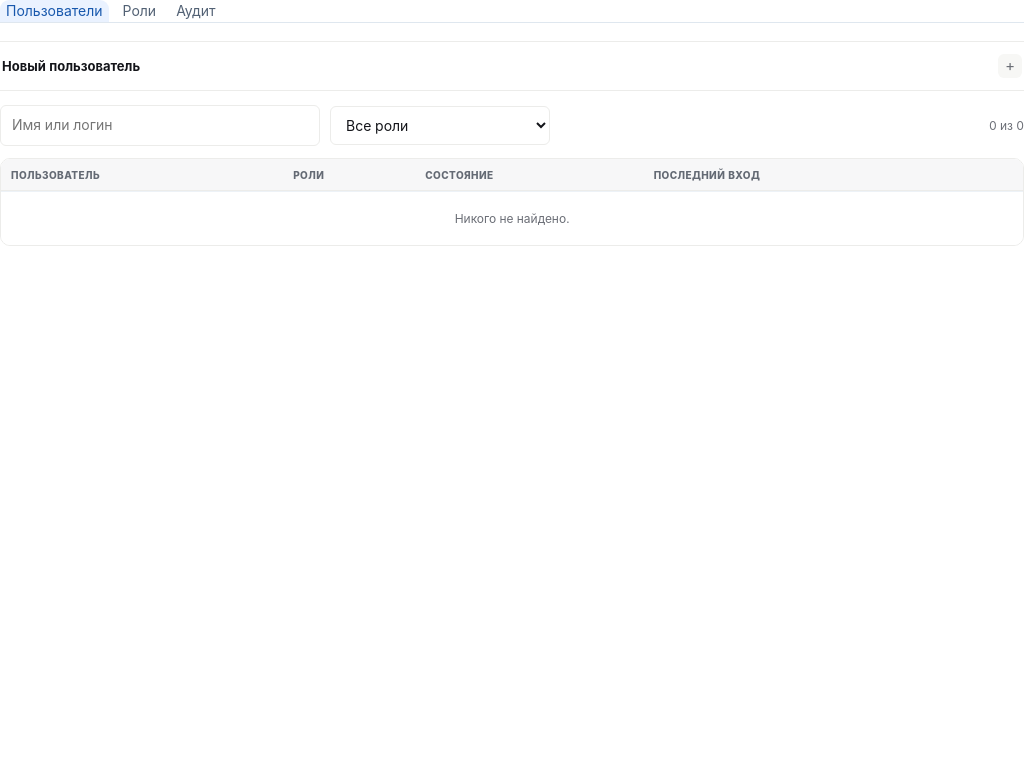
Test: role editing and cloning › requires the role name for deletion and closes the dialog after the request
Click the button "Роли": coordinates (139, 11) [116, 0, 162, 22]
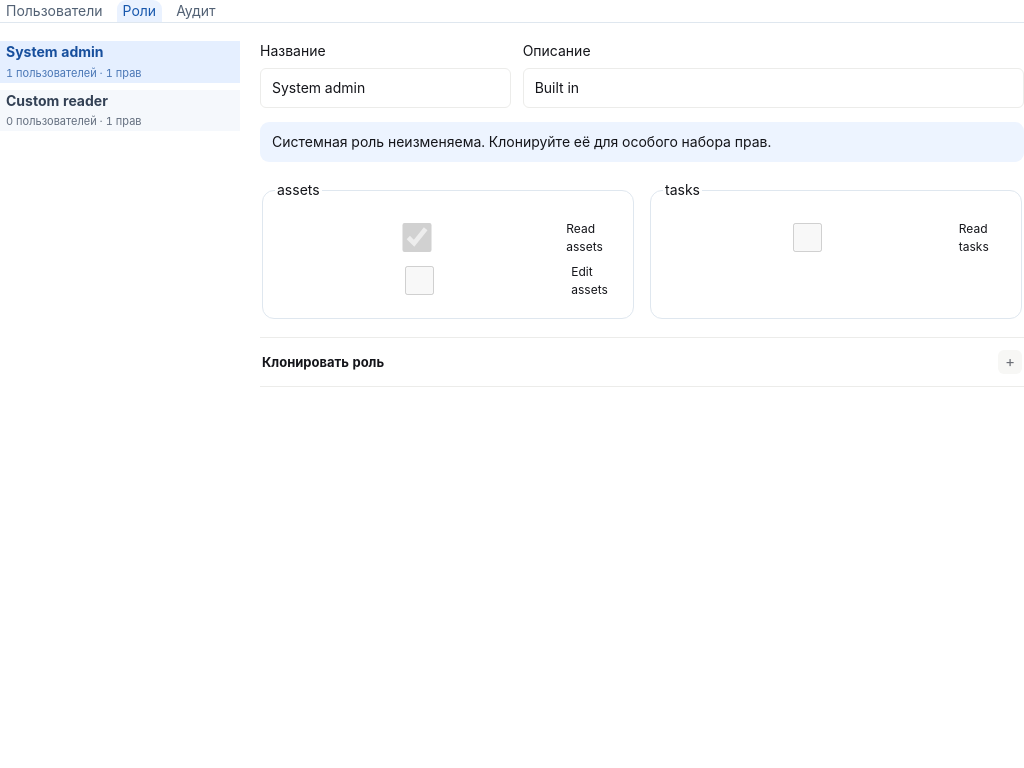
Check: the field showing "System admin" is shown, box [260, 68, 511, 108]
Click the button "Custom reader 0 пользователей · 1 прав": coordinates (120, 110) [0, 90, 240, 131]
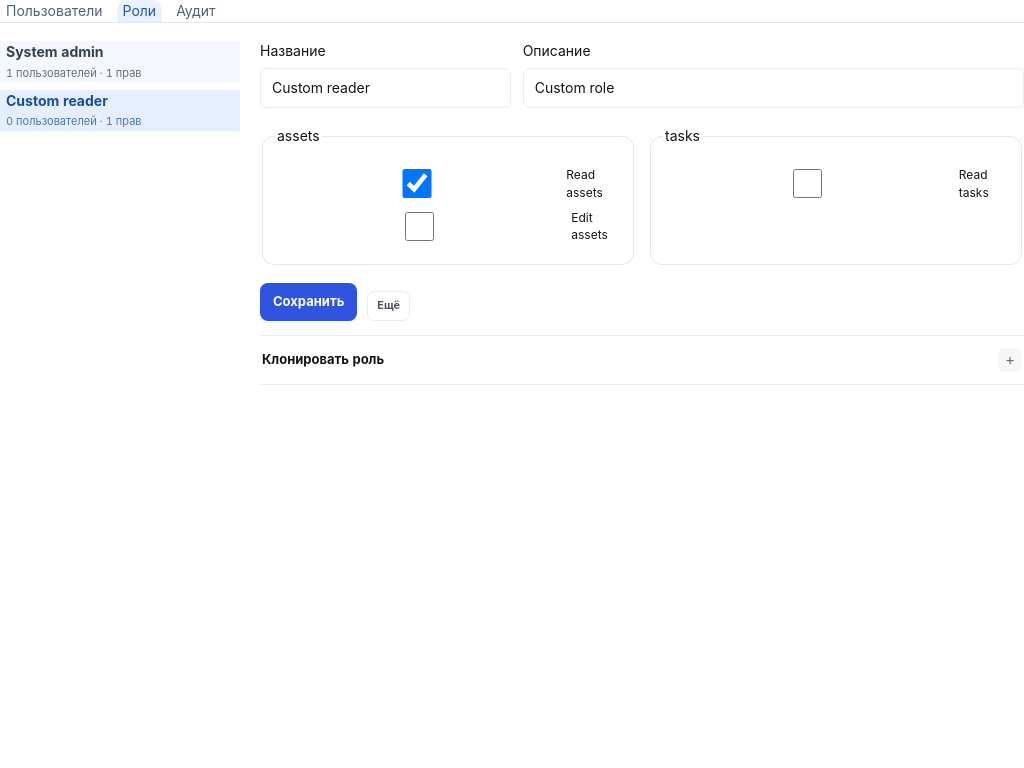
Check: the field showing "Custom reader" is shown, box [260, 68, 511, 108]
Click the heading "Ещё": coordinates (389, 306) [367, 291, 410, 321]
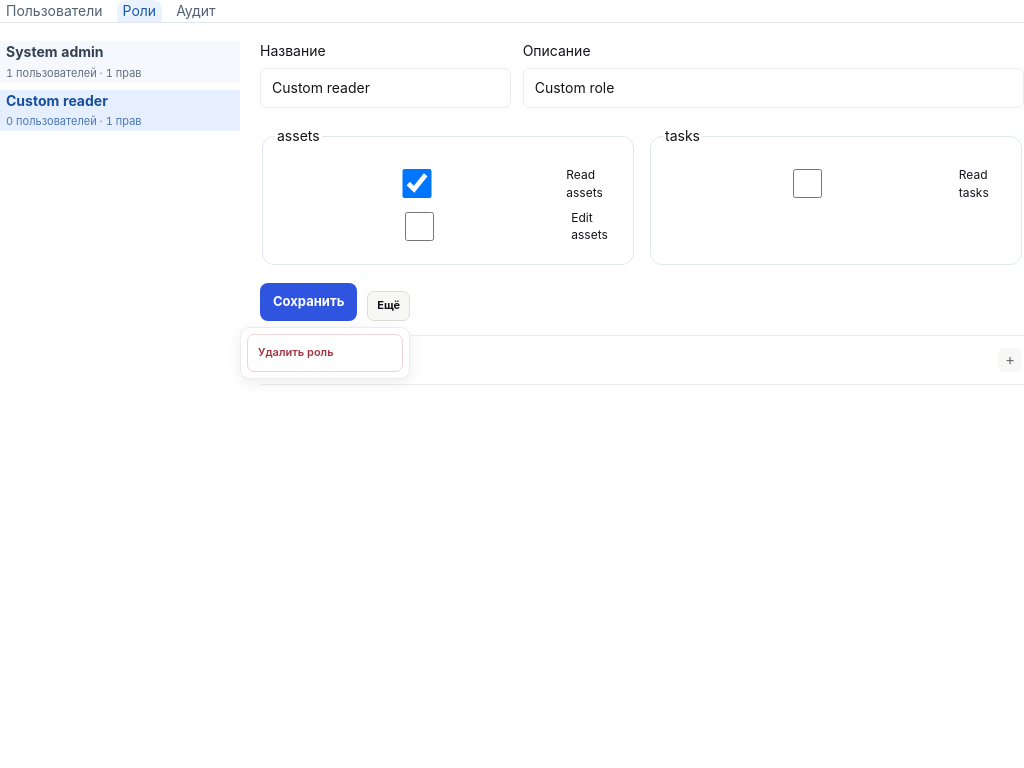
Click the button "Удалить роль": coordinates (325, 353) [247, 334, 403, 372]
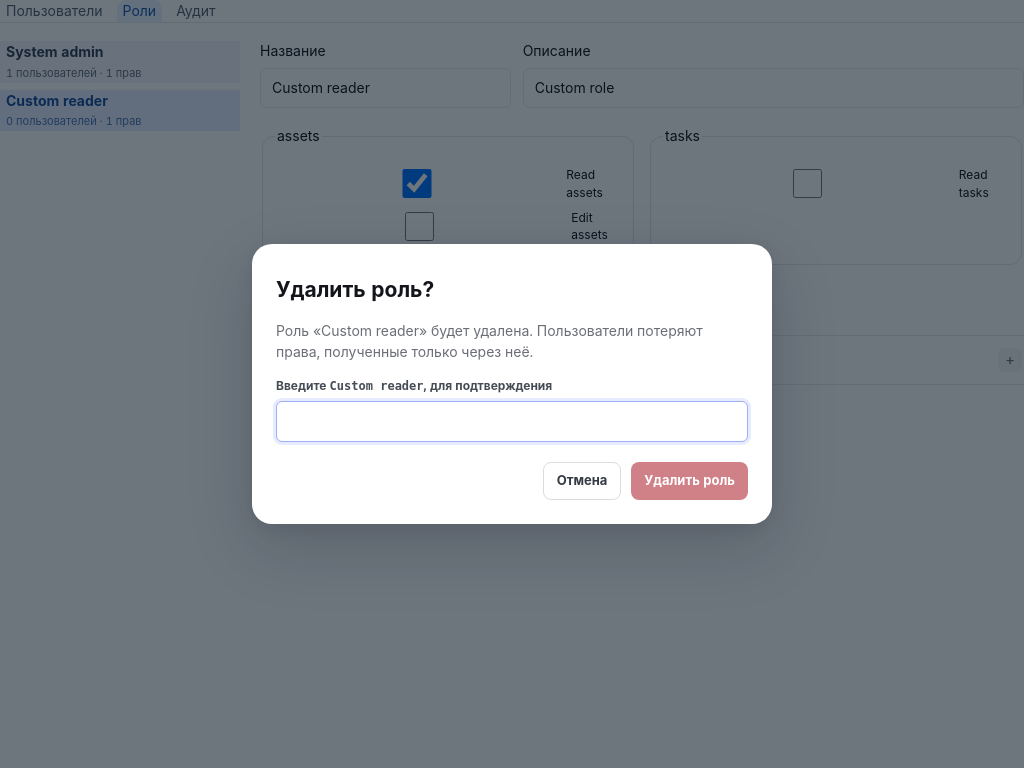
Check: the button "Удалить роль" is disabled, box [631, 462, 748, 500]
In the field: coordinates (512, 422) [276, 402, 748, 442], type "Custom reader"
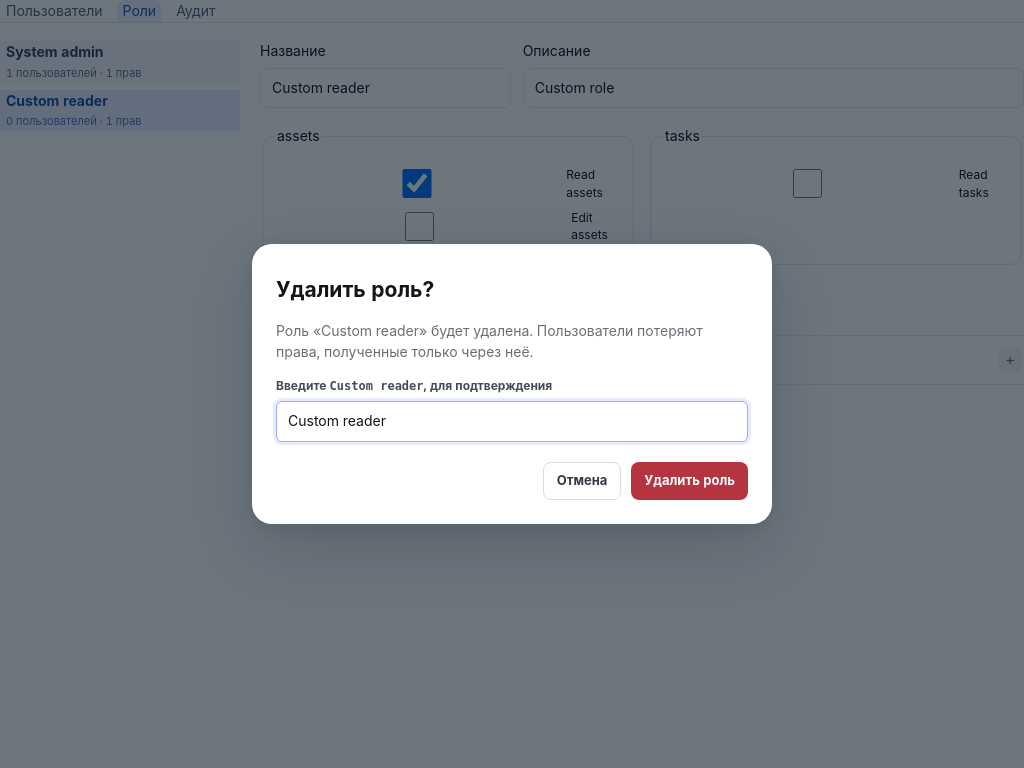
Click the button "Удалить роль": coordinates (690, 481) [631, 462, 748, 500]
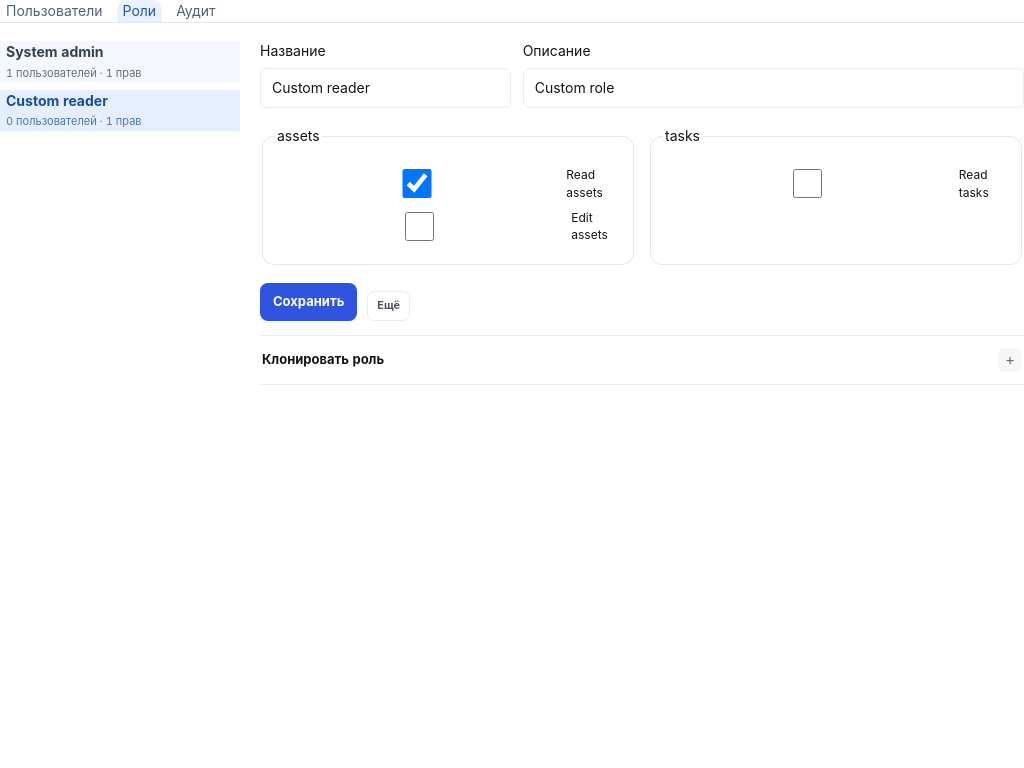
Check: the dialog is gone
